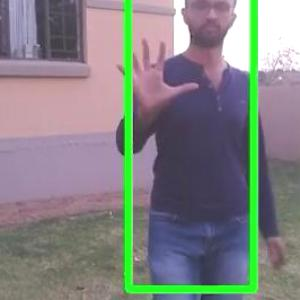follow_hand: (115, 31, 201, 112)
